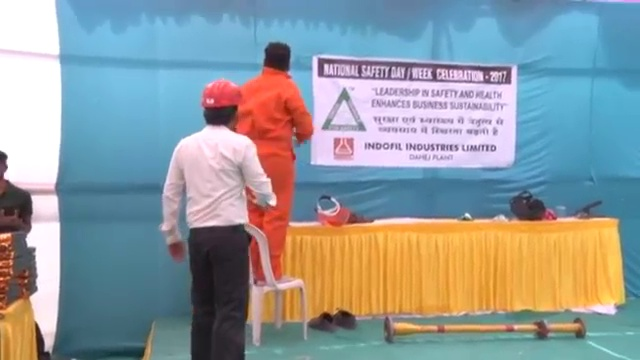helmet: (199, 78, 245, 110)
helmet_off: (264, 41, 291, 74)
helmet_on: (198, 77, 245, 134)
person: (154, 80, 277, 360), (239, 40, 312, 281), (1, 151, 39, 232)
